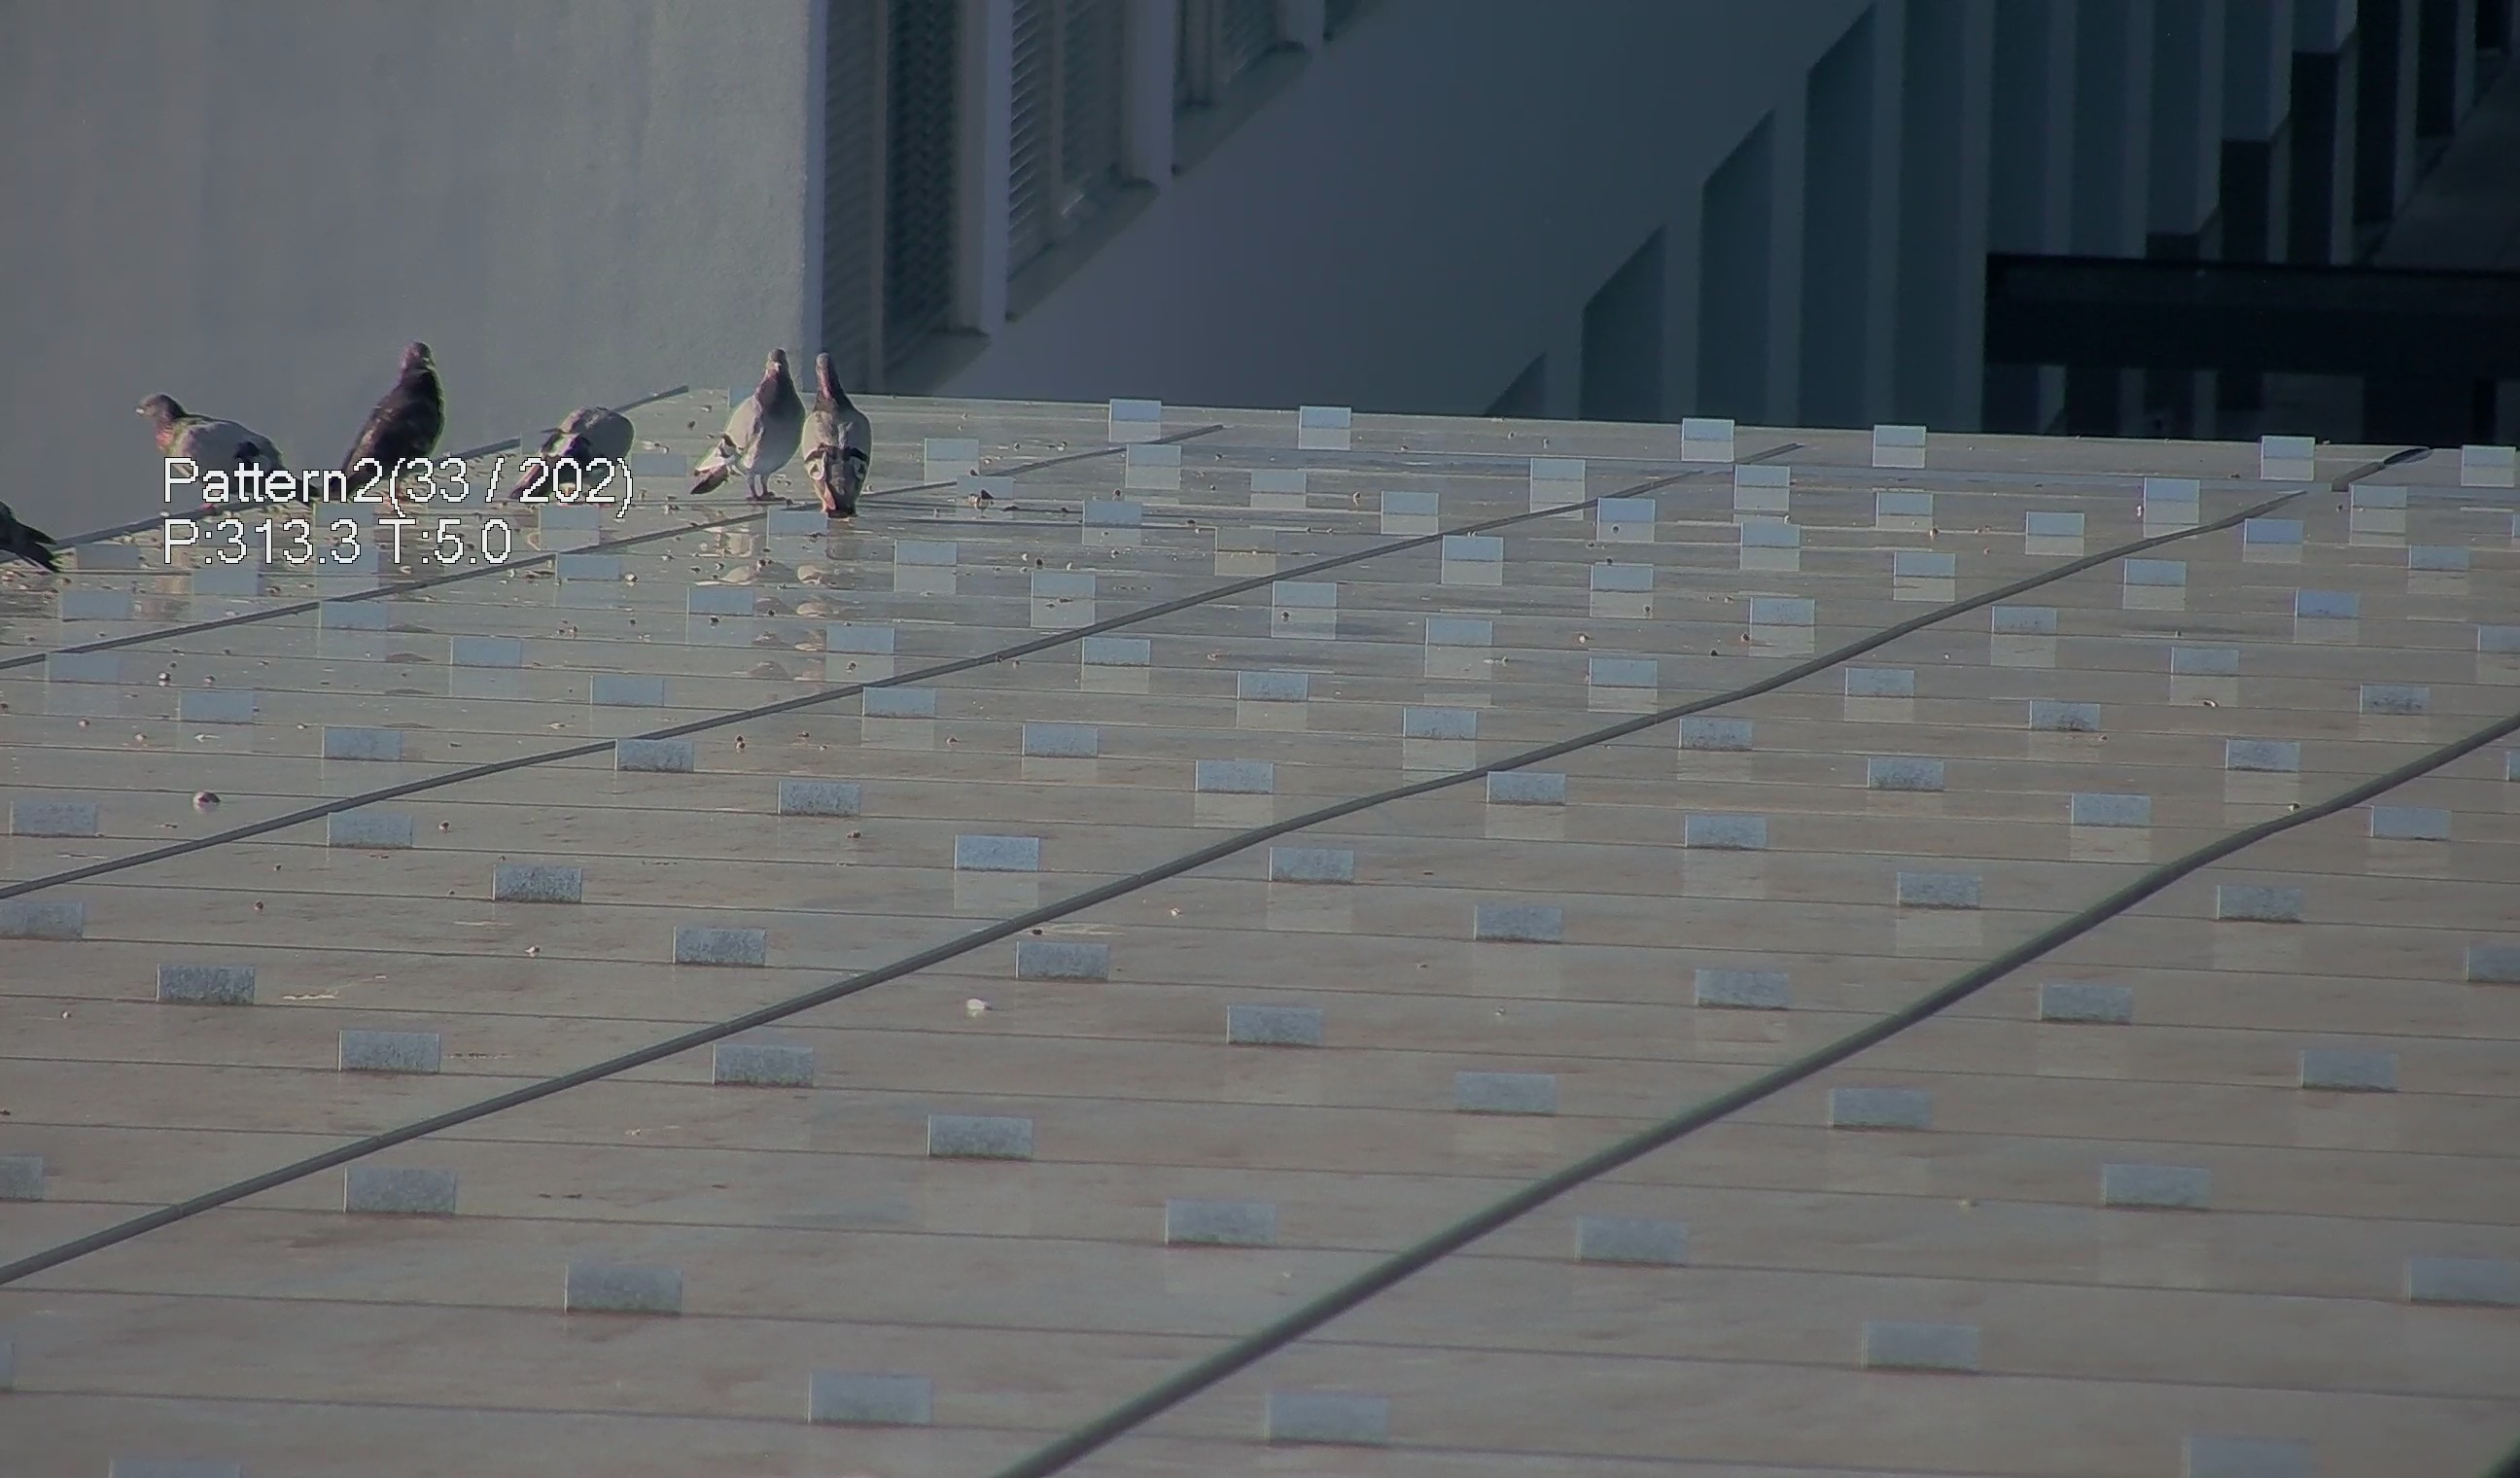Pigeon: (311, 331, 440, 486), (682, 340, 802, 503), (127, 382, 315, 486), (508, 396, 640, 503), (788, 334, 863, 514), (2, 479, 60, 593)
